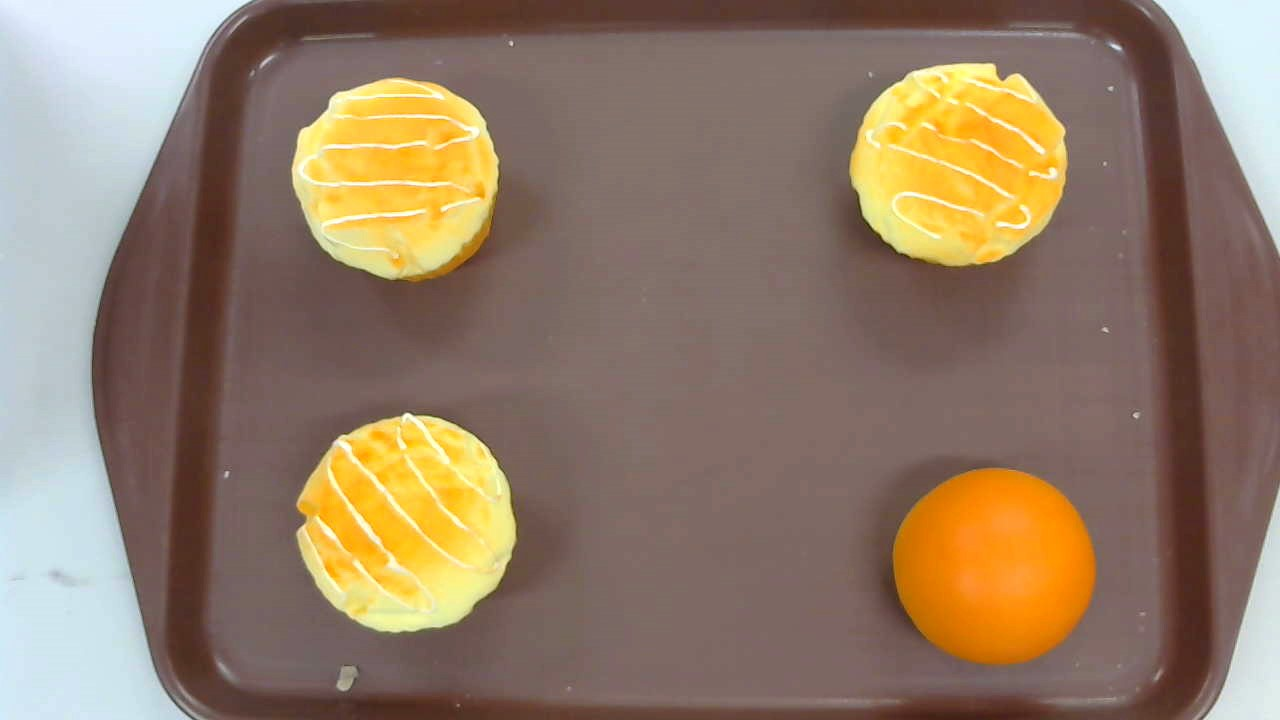bun: (890, 466, 1097, 666)
cupcake: (296, 411, 517, 634), (848, 63, 1067, 267), (291, 74, 501, 284)
